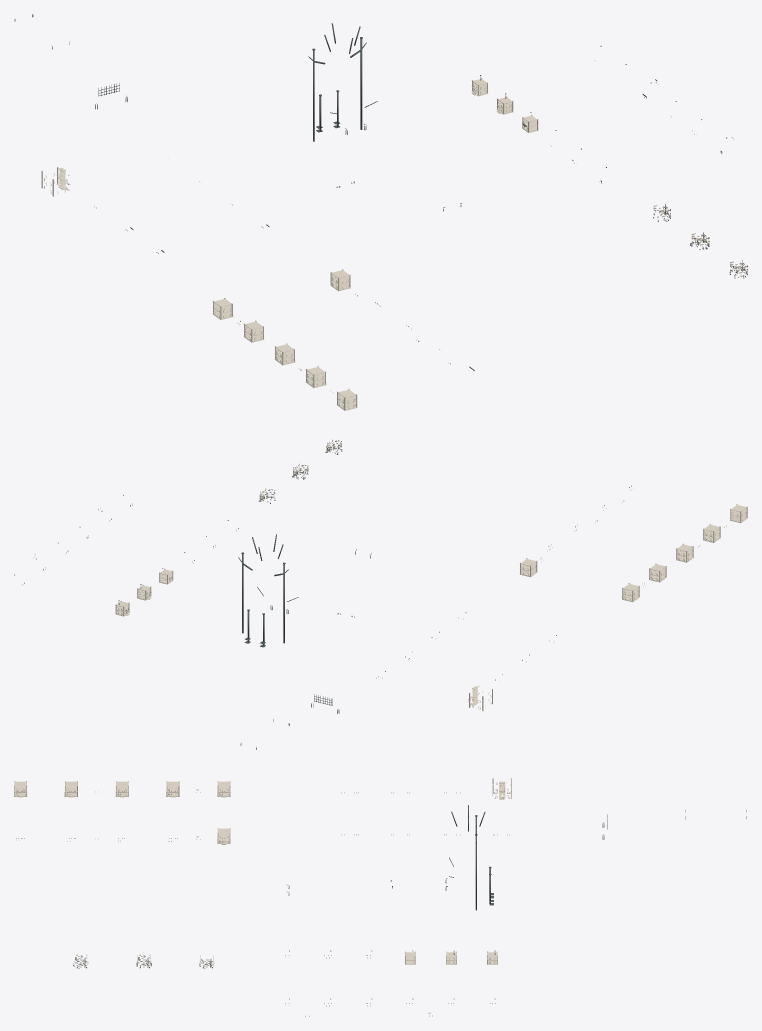
The model's file is Neris-13.glb.
3 renders of one model, top to bottom at view 1: azimuth 30°, elevation 25°; view 2: azimuth 150°, elevation 25°; view 3: azimuth 270°, elevation 25°, orthographic. The views are drawn at different scales.
Visible parts, largest first — view 1: Pale Carved Stone, Patinated Iron; view 2: Pale Carved Stone, Patinated Iron; view 3: Pale Carved Stone, Patinated Iron.
Part boxes in pixels (bbox=[...]): Pale Carved Stone: bbox=[41, 76, 538, 410]; Patinated Iron: bbox=[14, 14, 747, 370]; Pale Carved Stone: bbox=[115, 504, 747, 710]; Patinated Iron: bbox=[14, 442, 726, 749]; Pale Carved Stone: bbox=[14, 778, 511, 964]; Patinated Iron: bbox=[16, 789, 746, 1016].
Bounding box in the file's own units: 444 × 82.1 × 607.
